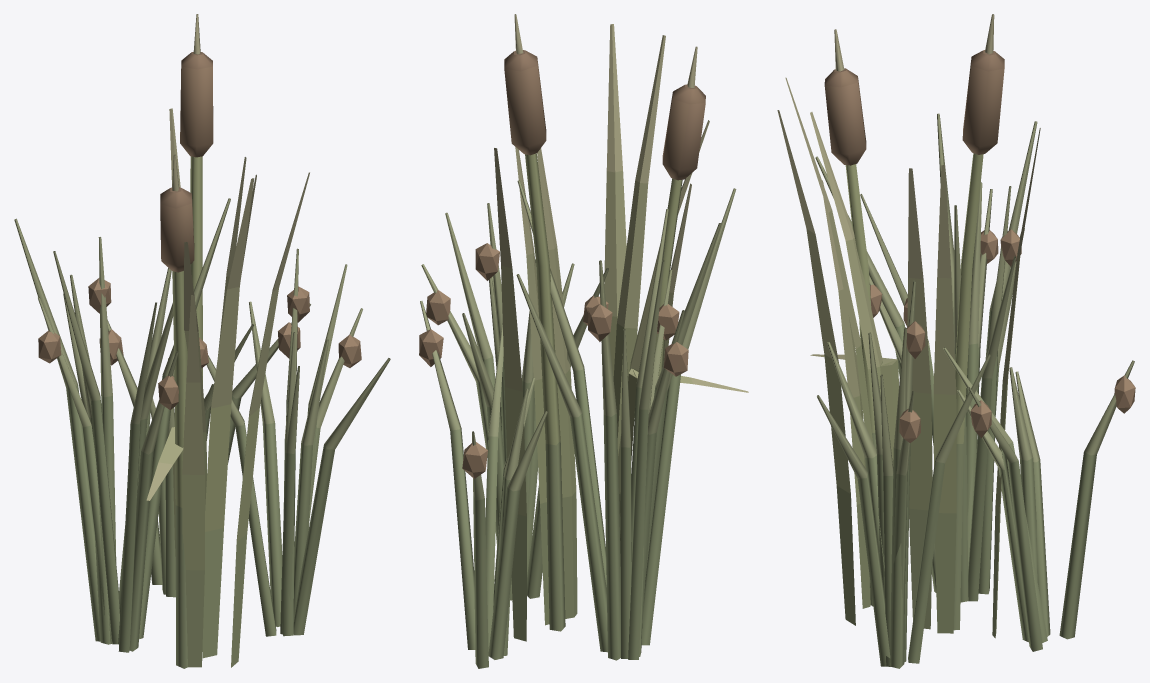
The model's file is ReedClump2_leaf.glb.
The picture shows the model from 3 angles, left to right: view 1: azimuth 30°, elevation 25°; view 2: azimuth 150°, elevation 25°; view 3: azimuth 270°, elevation 25°; orthographic projection. The views are drawn at different scales.
Parts seen in each view (by area): view 1: ReedClump2_leaf; view 2: ReedClump2_leaf; view 3: ReedClump2_leaf.
Boxes of the visible parts, <box> form: ReedClump2_leaf: <box>14,14,390,668</box>; ReedClump2_leaf: <box>419,14,748,668</box>; ReedClump2_leaf: <box>777,14,1135,668</box>.
Size of the model in its own units: 3.76 by 7.18 by 3.73.
